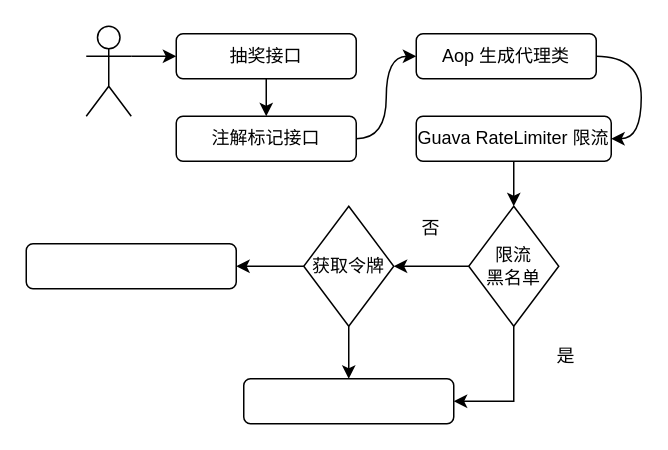
This 668x450 diagram has some shape labels left out. Here are the shapes that lost their labels. From the top down, the centre of each, then its label:
At [108,70]: "用户".
At [130,265]: "成功放行执行后续流程".
At [348,400]: "失败熔断提醒用户重试".
